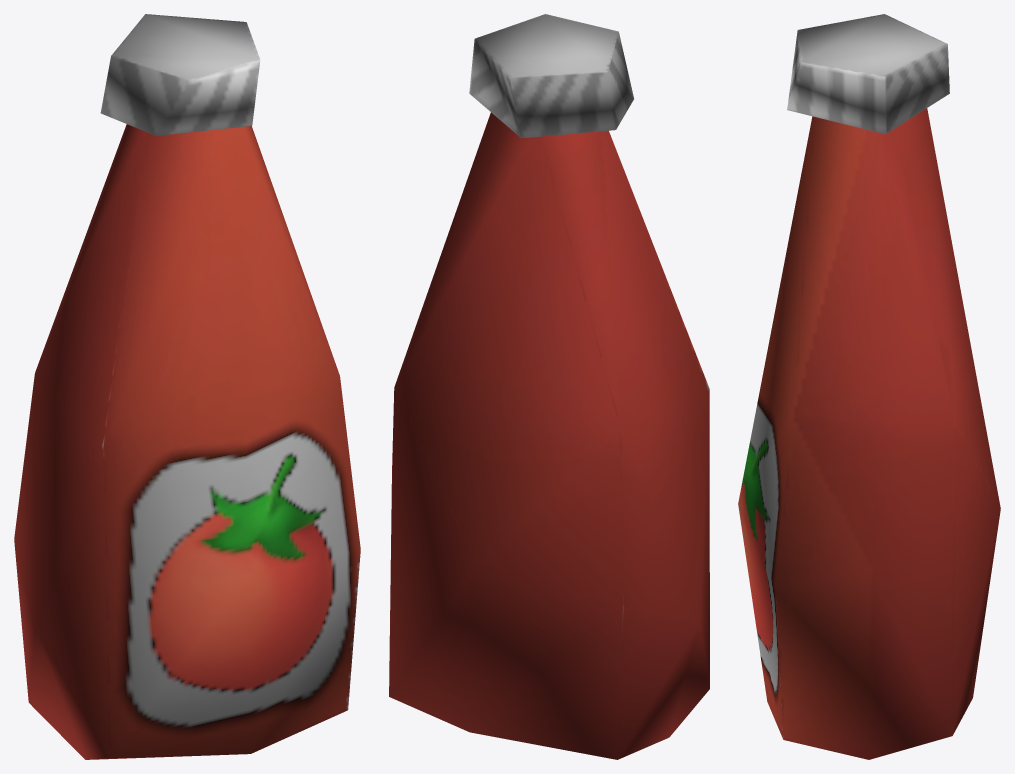
Rendered from ketchup_UE.fbx.
3 renders of one model, left to right at view 1: azimuth 30°, elevation 25°; view 2: azimuth 150°, elevation 25°; view 3: azimuth 270°, elevation 25°, orthographic. The views are drawn at different scales.
Parts seen in each view (by area): view 1: ketchup_UE; view 2: ketchup_UE; view 3: ketchup_UE.
Part boxes in pixels (x1,y1,x2,y2): ketchup_UE: (14, 14, 360, 759); ketchup_UE: (389, 14, 709, 759); ketchup_UE: (738, 14, 1000, 759).
Bounding box in the file's own units: 28.52 × 59.89 × 21.65.
Materials: 1 (1 with a texture image).
